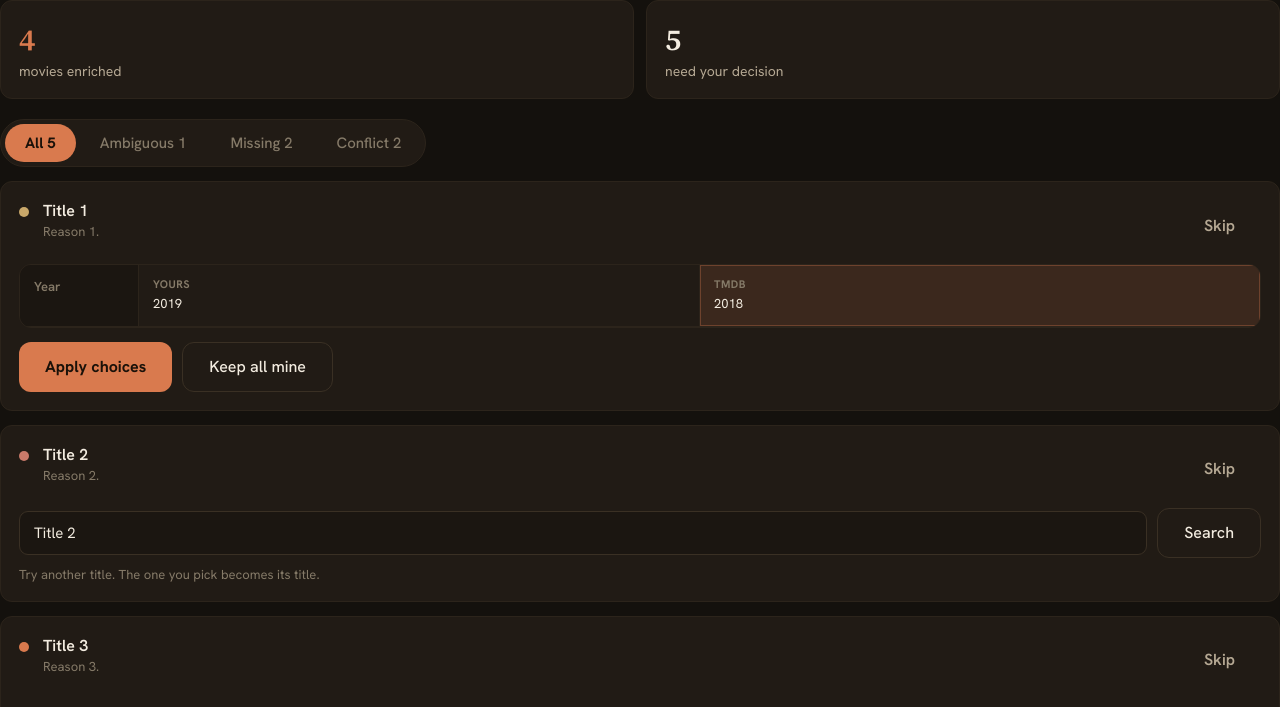
Test: EnrichmentReview — Skip all beside a chosen kind › draws Skip all beside the filter once Ambiguous 1 is chosen
The width and height of the screenshot is (1280, 707).
Click the button "Ambiguous 1".
click(143, 143)  # box [80,124,206,162]
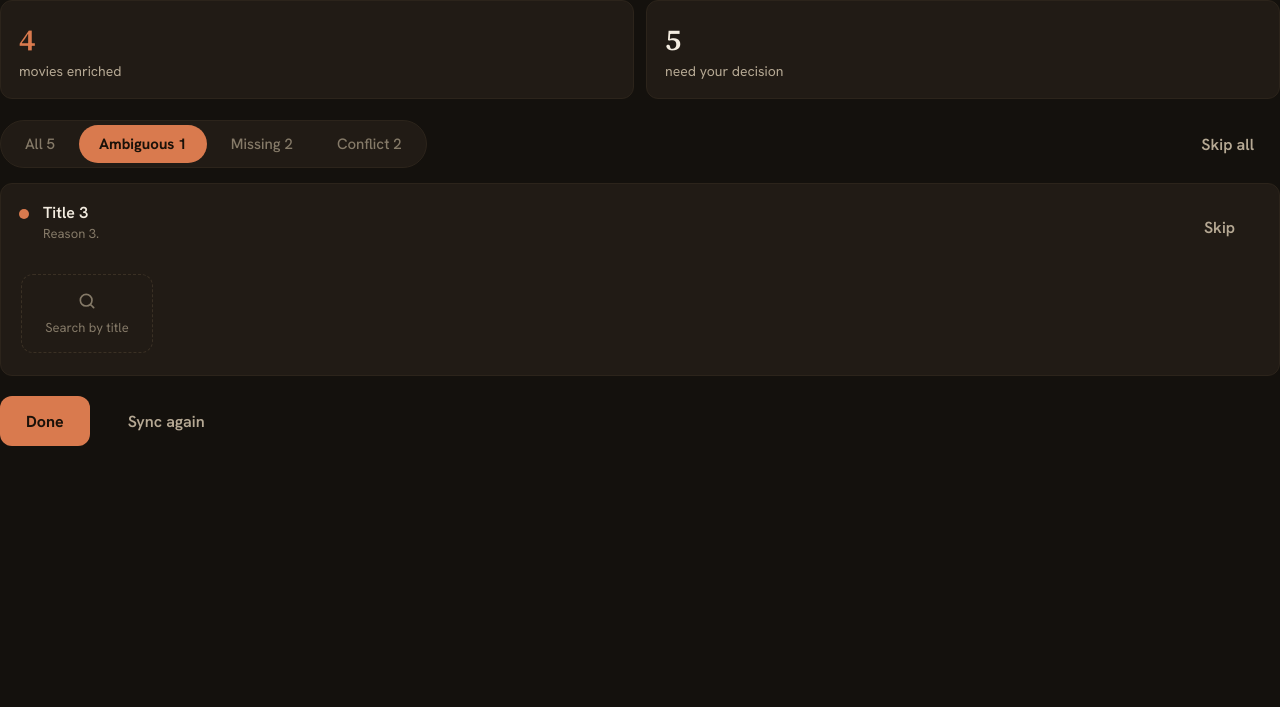
Check: the button "Skip all" is shown, box [1175,119,1279,169]
Check: the button "Keep all mine" is gone
